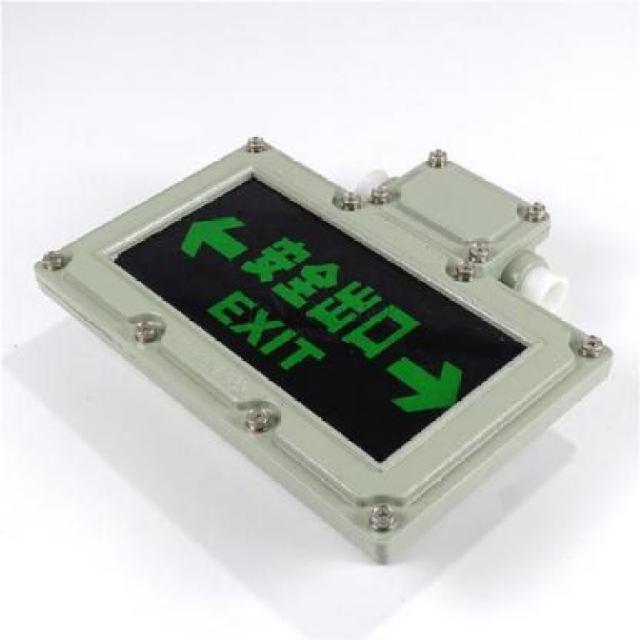exit_sign: (111, 169, 539, 469)
